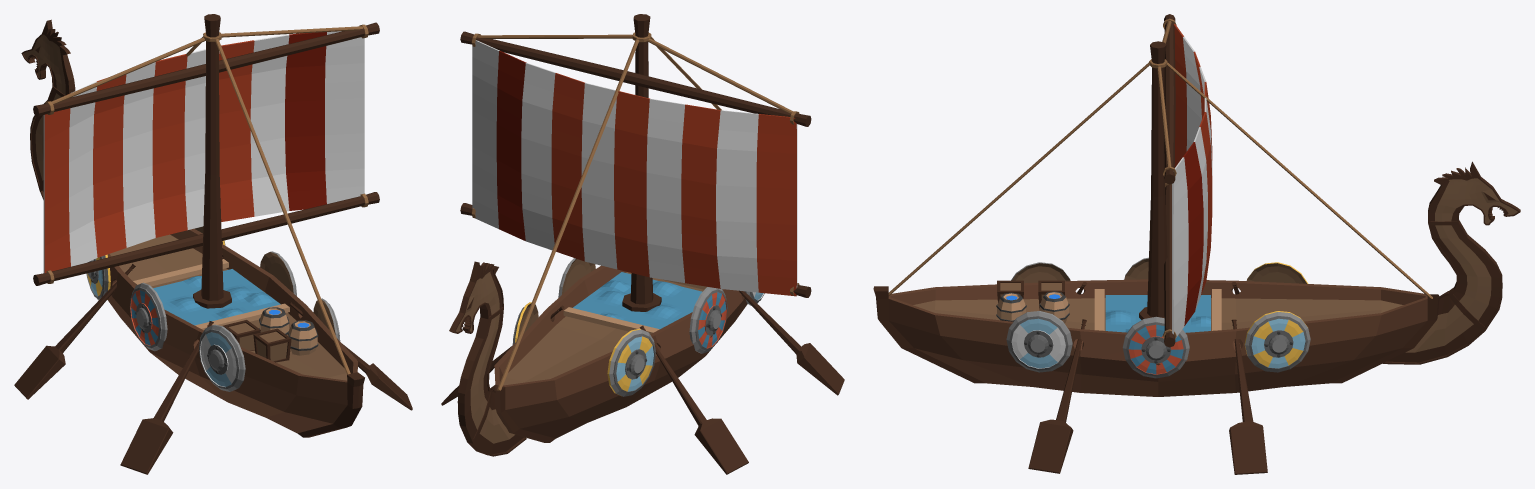
The model's file is low_poly_viking_boat_2.glb.
The picture shows the model from 3 angles, left to right: view 1: azimuth 30°, elevation 25°; view 2: azimuth 150°, elevation 25°; view 3: azimuth 270°, elevation 25°; orthographic projection. The views are drawn at different scales.
Parts seen in each view (by area): view 1: Cube.004_0, mesh_1; view 2: Cube.004_0, mesh_1; view 3: Cube.004_0, mesh_1.
Boxes of the visible parts, x1,y1,x2,y2 form: Cube.004_0: (14, 14, 412, 474); mesh_1: (153, 269, 280, 325); Cube.004_0: (441, 14, 844, 474); mesh_1: (573, 272, 702, 329); Cube.004_0: (873, 14, 1520, 474); mesh_1: (1105, 295, 1210, 332).
Bounding box in the file's own units: 7.19 × 7.58 × 12.28.
1 material, 1 textured.
